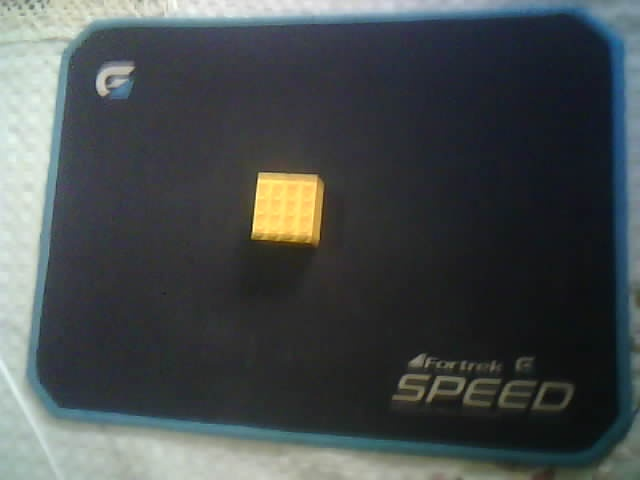lego: (249, 172, 326, 246)
